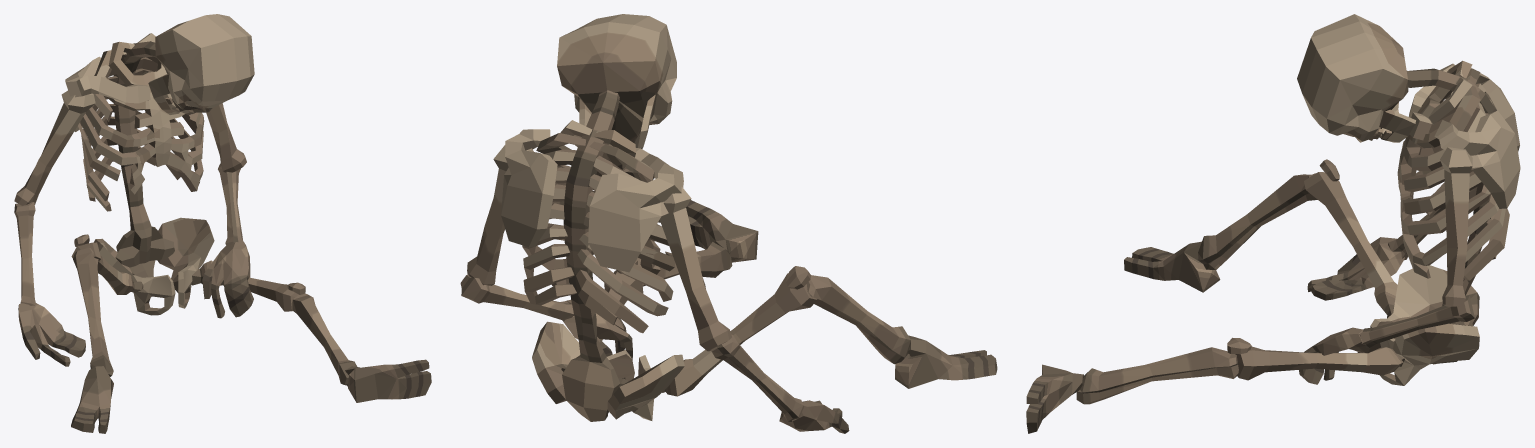
The model's file is crypt_body_b.gltf.
3 views of the same model, side by side, from view 1: azimuth 30°, elevation 25°; view 2: azimuth 150°, elevation 25°; view 3: azimuth 270°, elevation 25° (orthographic). The views are drawn at different scales.
Parts seen in each view (by area): view 1: crypt_body_b; view 2: crypt_body_b; view 3: crypt_body_b.
Boxes of the visible parts, box(x1,y1,x2,y2) form: crypt_body_b: box(14, 14, 431, 433); crypt_body_b: box(460, 14, 997, 433); crypt_body_b: box(1026, 14, 1520, 433).
Bounding box in the file's own units: 0.9356 × 0.8665 × 1.09.
Materials: 1 (1 with a texture image).
